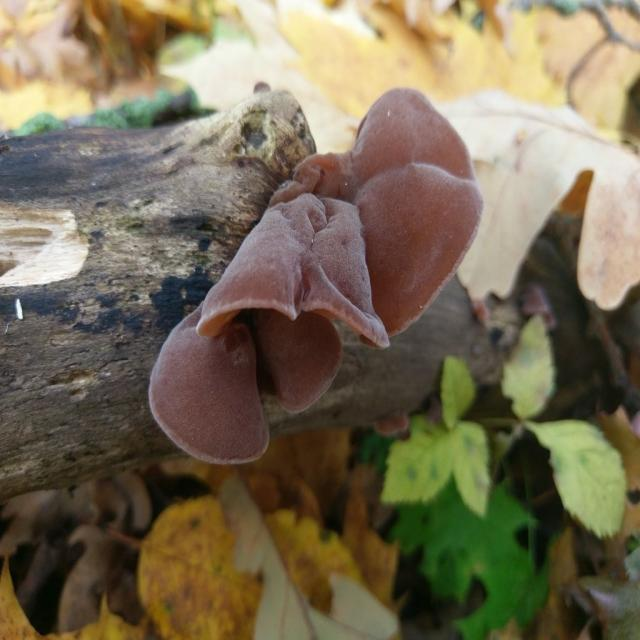Matang: (194, 81, 489, 342), (143, 300, 345, 468)
